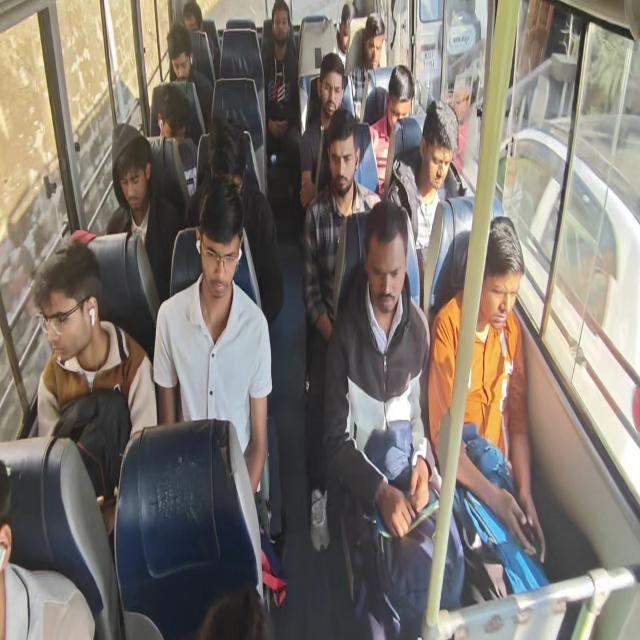person: (31, 1, 552, 637), (322, 200, 465, 638), (428, 216, 546, 565), (152, 173, 273, 498), (34, 239, 157, 537), (302, 108, 382, 552), (189, 114, 284, 324), (0, 460, 96, 639), (106, 122, 182, 304), (386, 99, 460, 267), (260, 1, 302, 213), (300, 52, 346, 211), (369, 64, 415, 195), (150, 82, 198, 198), (166, 22, 213, 134), (182, 1, 218, 70), (450, 76, 475, 173), (334, 2, 356, 66), (362, 12, 385, 71)
